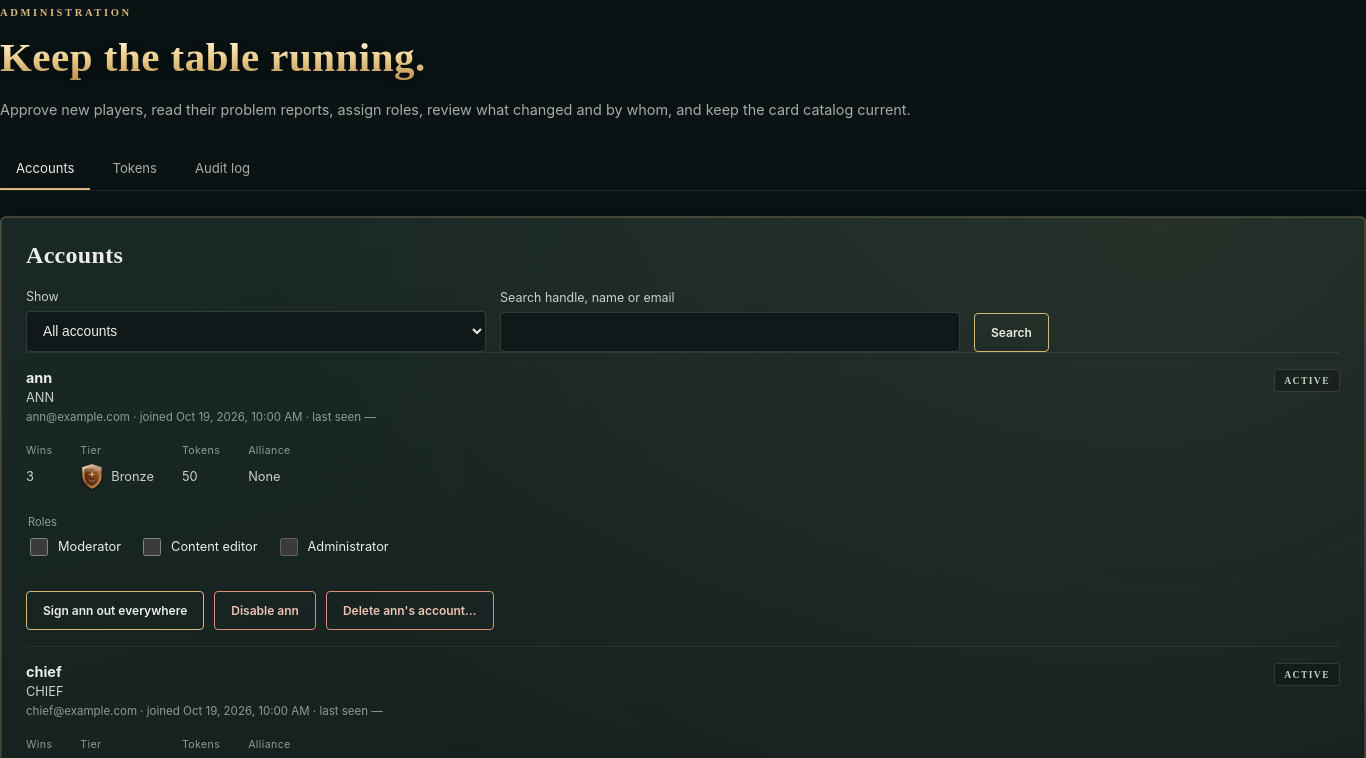
Test: deleting from the accounts list › offers it on the rows the viewer may change, and shows the account deleted
Click the button "Delete ann's account…" at (410, 610), box x1=326 y1=591 x2=494 y2=630
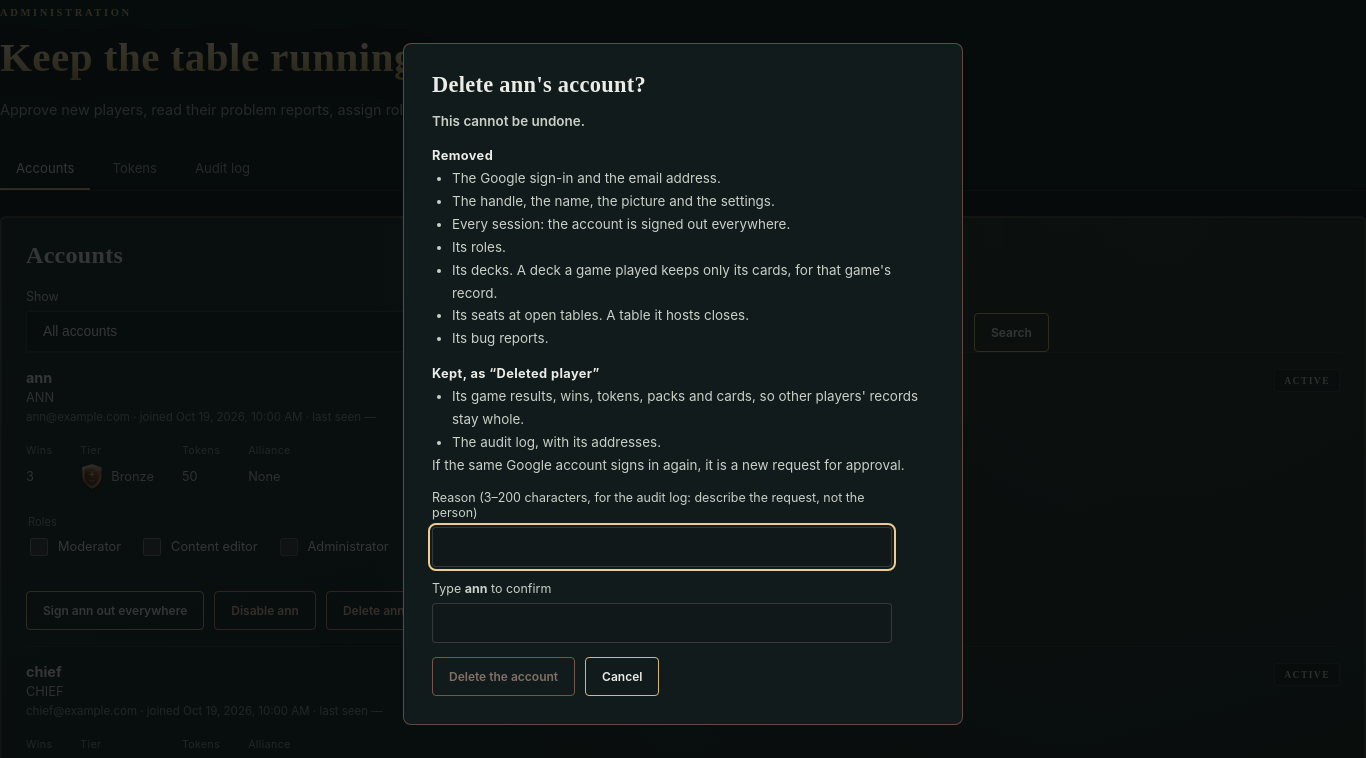
Type "Asked by email to delete it" into the field labelled "Reason" at (662, 548), box x1=432 y1=528 x2=892 y2=568
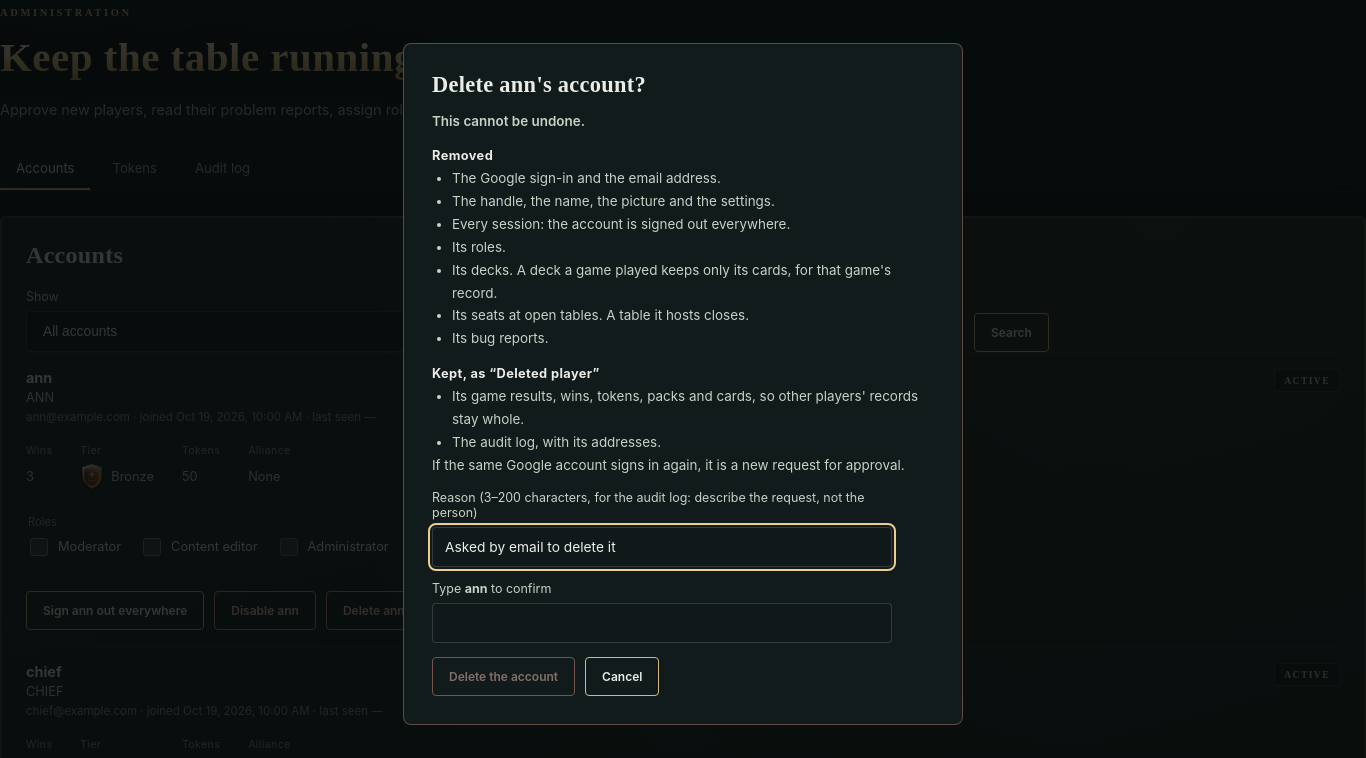
Type "ann" into the field labelled "Type ann to confirm" at (662, 624), box x1=432 y1=604 x2=892 y2=644
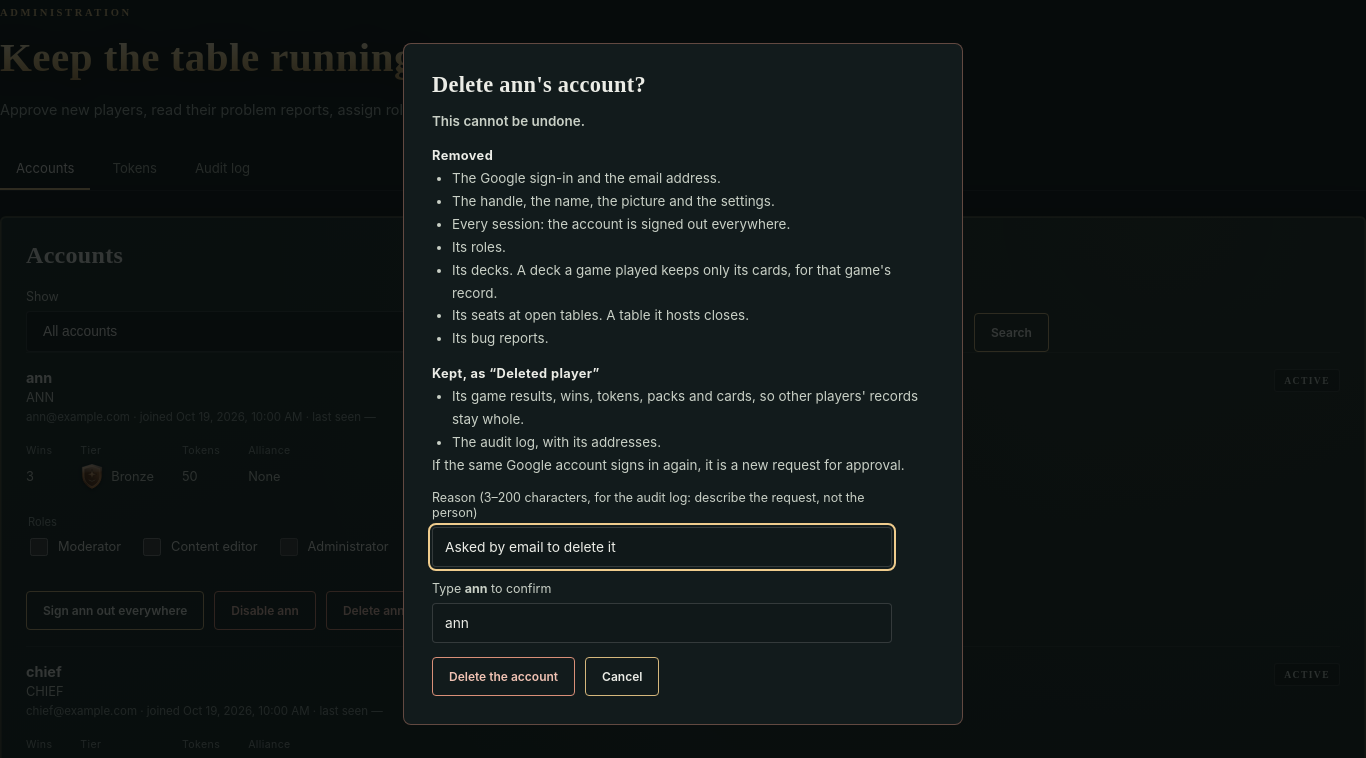
Click the button "Delete the account" at (504, 677), box x1=432 y1=658 x2=575 y2=696
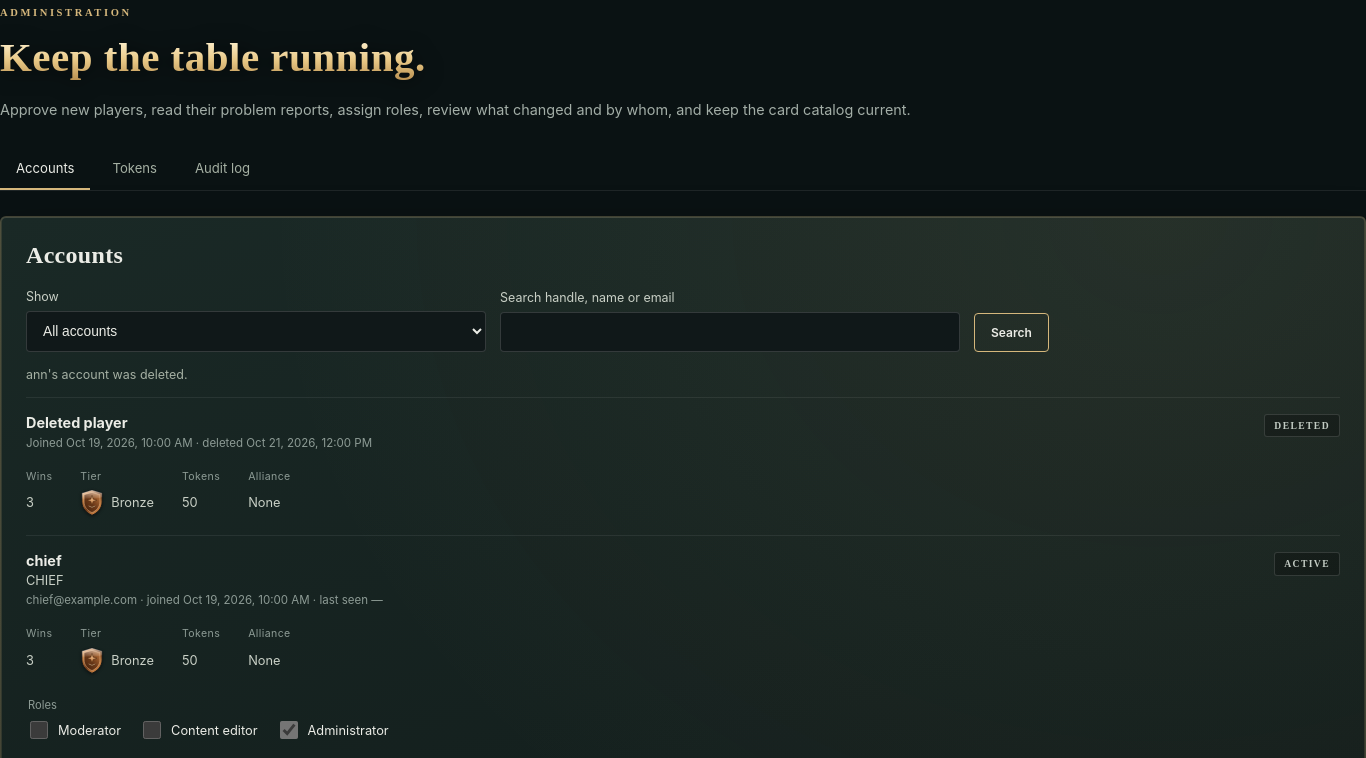
Expected: the message reads "ann's account was deleted.", x1=26 y1=366 x2=188 y2=382
Expected: the dialog is gone
Expected: the number of list items "Deleted player" is 2
